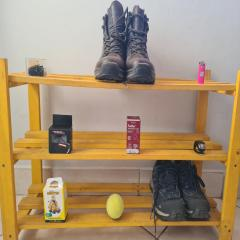bola: (106, 193, 125, 219)
bota1: (95, 2, 156, 86)
bota2: (150, 159, 211, 222)
cx-bike: (48, 112, 73, 153)
cx-ferro: (126, 115, 140, 155)
cx-minions: (42, 177, 68, 223)
cx-xuxa: (25, 56, 48, 77)
isqueiro: (197, 61, 206, 86)
luz: (194, 139, 206, 156)
